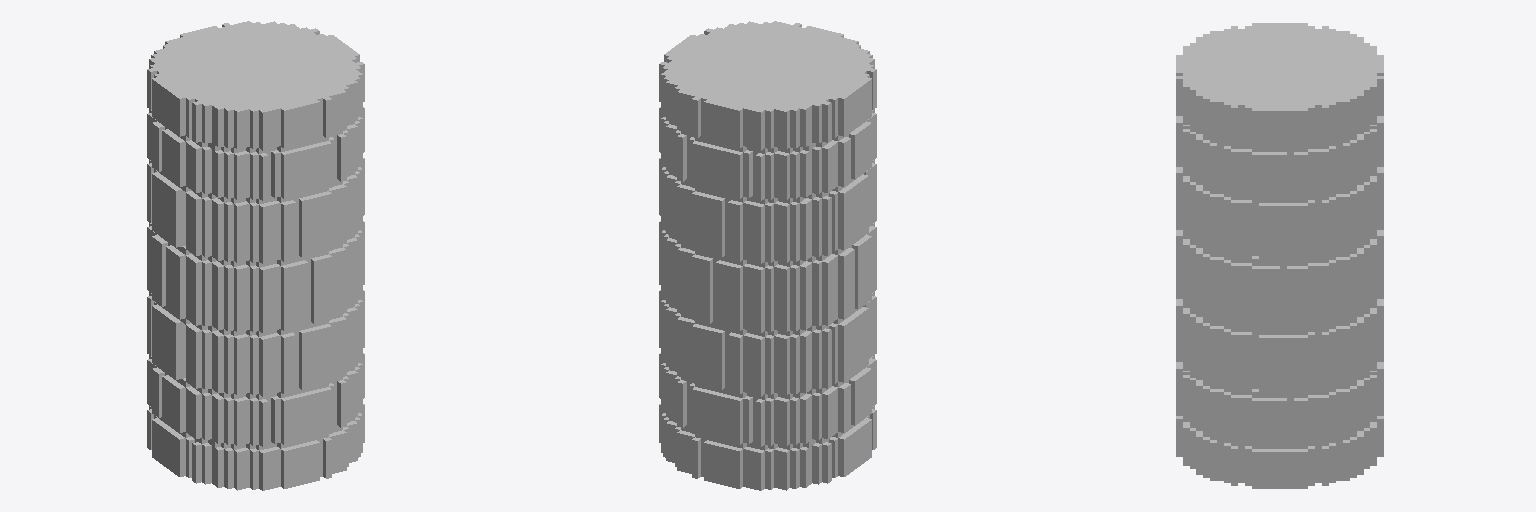
File: brick.obj
3 views of the same model, side by side, from view 1: azimuth 30°, elevation 25°; view 2: azimuth 150°, elevation 25°; view 3: azimuth 270°, elevation 25° (orthographic).
Visible parts, largest first — view 1: object 1; view 2: object 1; view 3: object 1.
Part boxes in pixels (bbox=[...]): object 1: bbox=[147, 21, 364, 490]; object 1: bbox=[659, 21, 876, 490]; object 1: bbox=[1176, 23, 1383, 488].
Size of the model in its own units: 3 by 6 by 3.